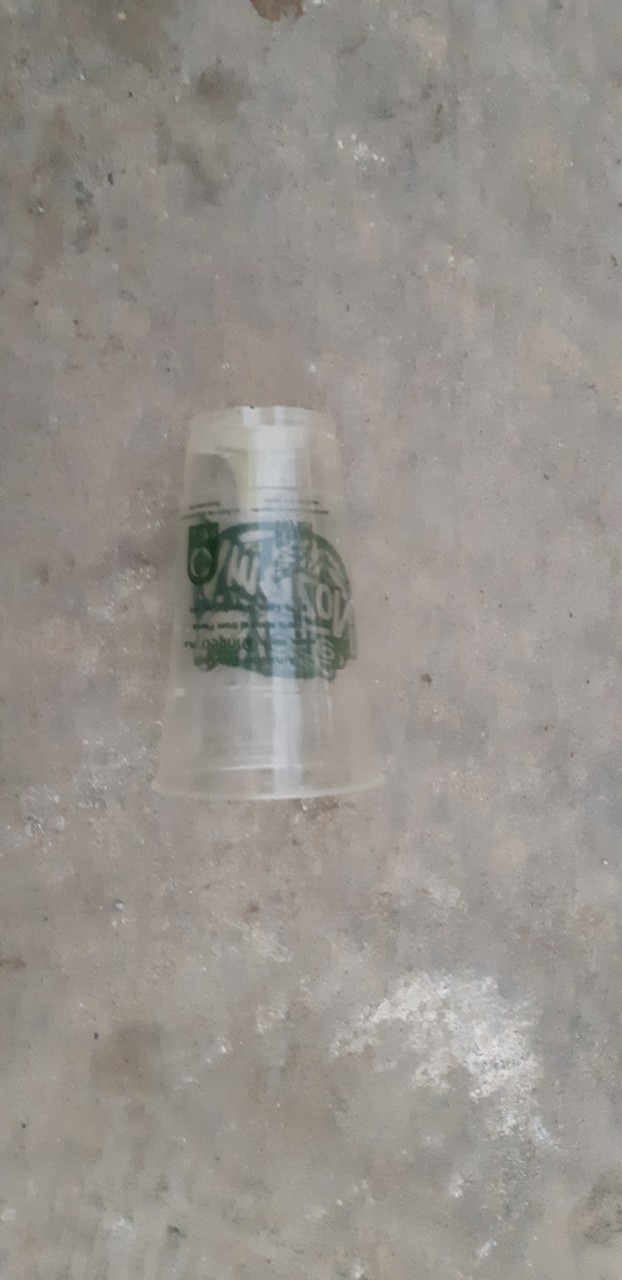PlasticCup: (149, 398, 390, 804)
